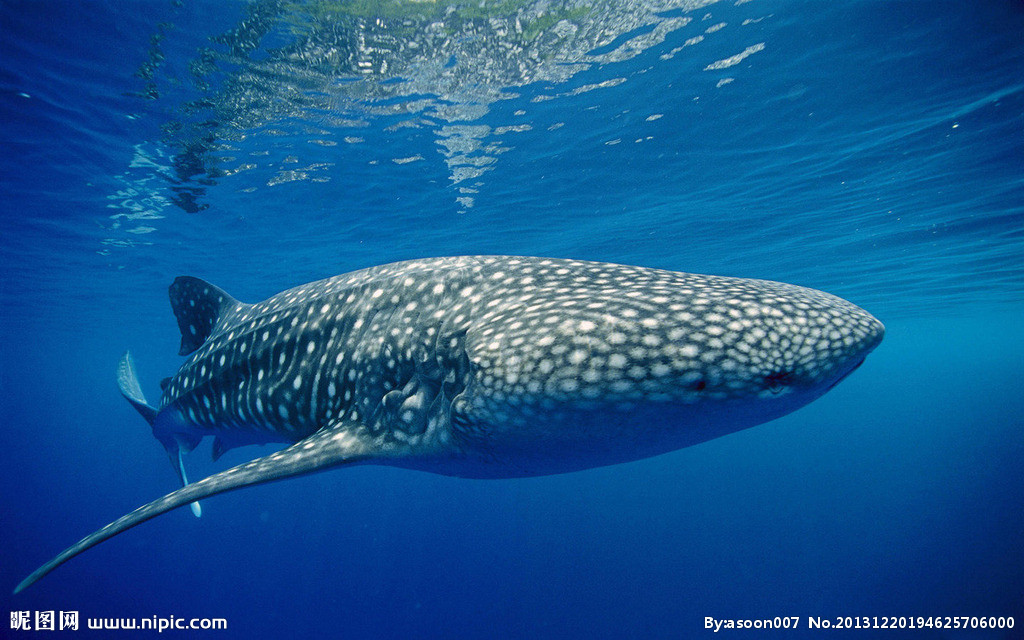fish: (2, 252, 883, 600)
